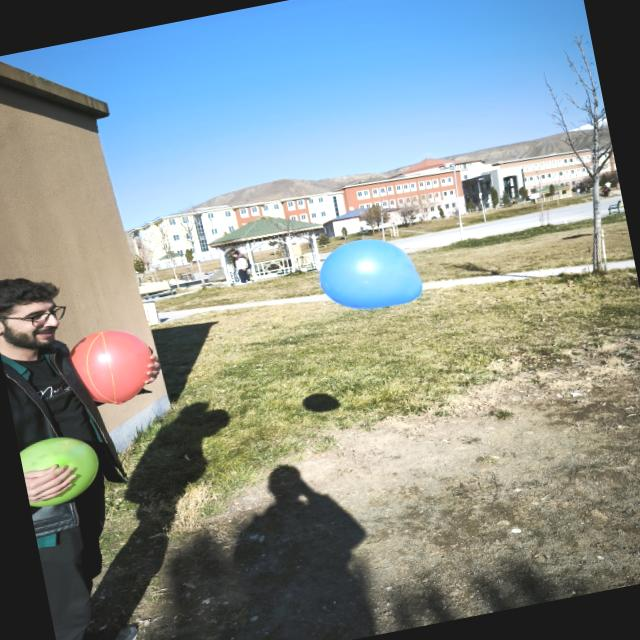balloon: (320, 240, 422, 309), (70, 330, 152, 404), (20, 438, 99, 507)
